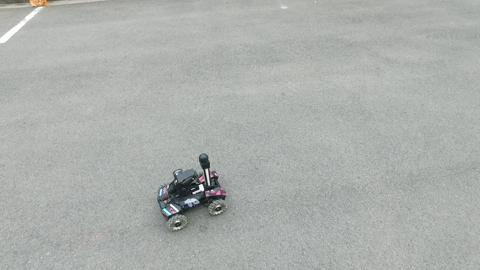chariot: (133, 137, 237, 237)
